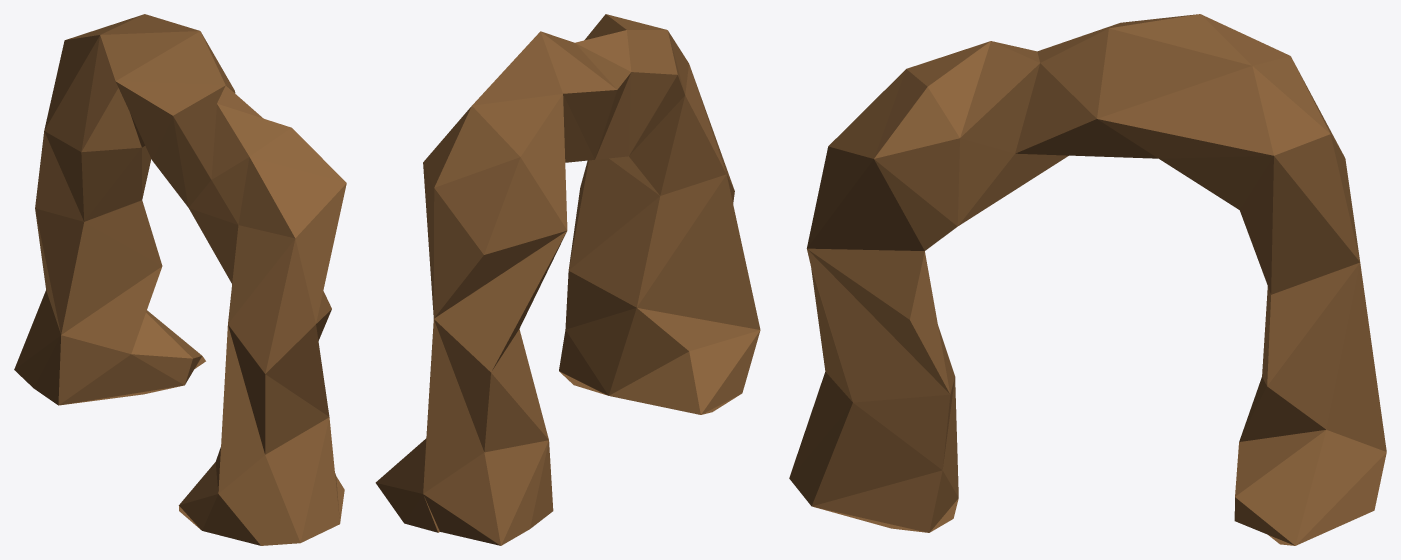
File: door.fbx
3 renders of one model, left to right at view 1: azimuth 30°, elevation 25°; view 2: azimuth 150°, elevation 25°; view 3: azimuth 270°, elevation 25°, orthographic. The views are drawn at different scales.
Visible parts, largest first — view 1: Cube_3, Cube_5; view 2: Cube_3; view 3: Cube_3.
Boxes of the visible parts, x1,y1,x2,y2 form: Cube_3: (14, 14, 346, 545); Cube_5: (61, 356, 344, 529); Cube_3: (375, 14, 760, 545); Cube_3: (789, 14, 1386, 545).
Bounding box in the file's own units: 465 × 994 × 1143.
